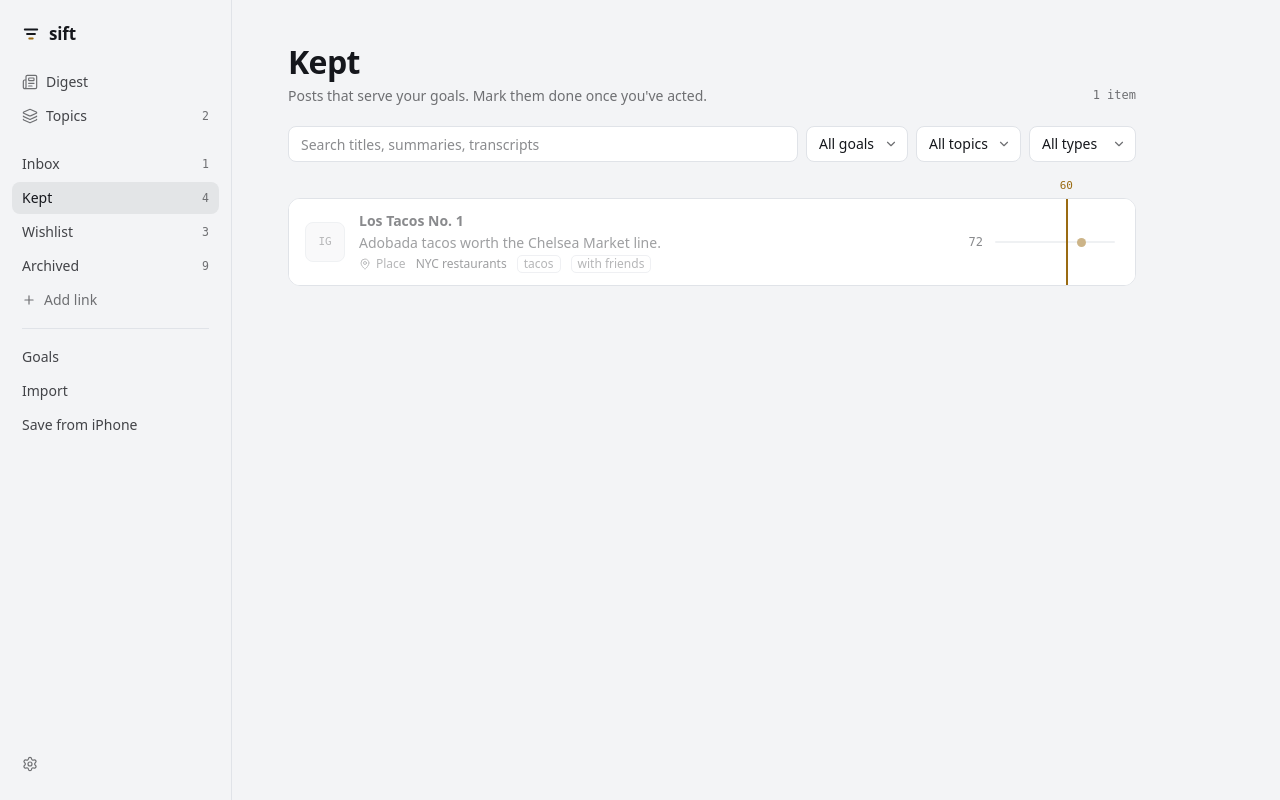
library search › keeps typing that lands while a search is loading
The image size is (1280, 800).
Type "taco" into the search field labelled "Search" at (543, 144), box [288,126,798,162]
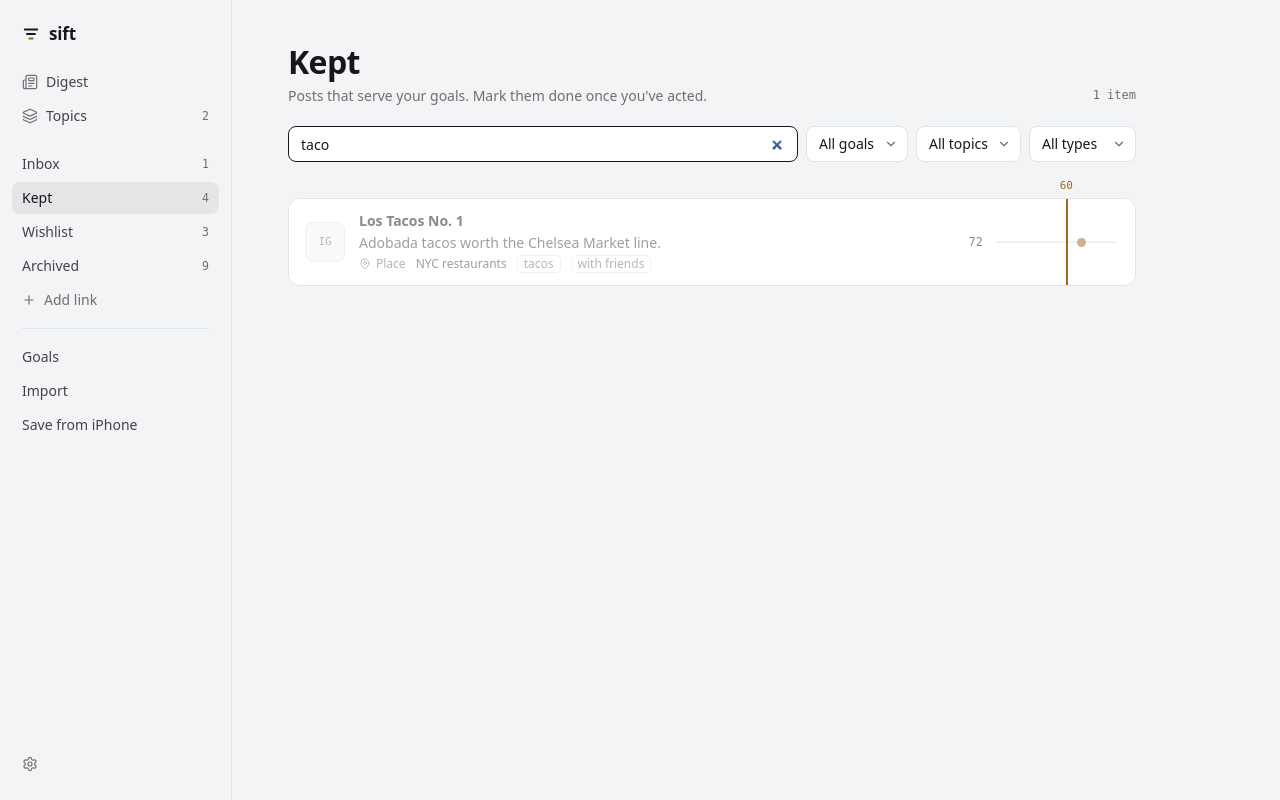
Type "s" into the search field named "Search" at (543, 144), box [288,126,798,162]
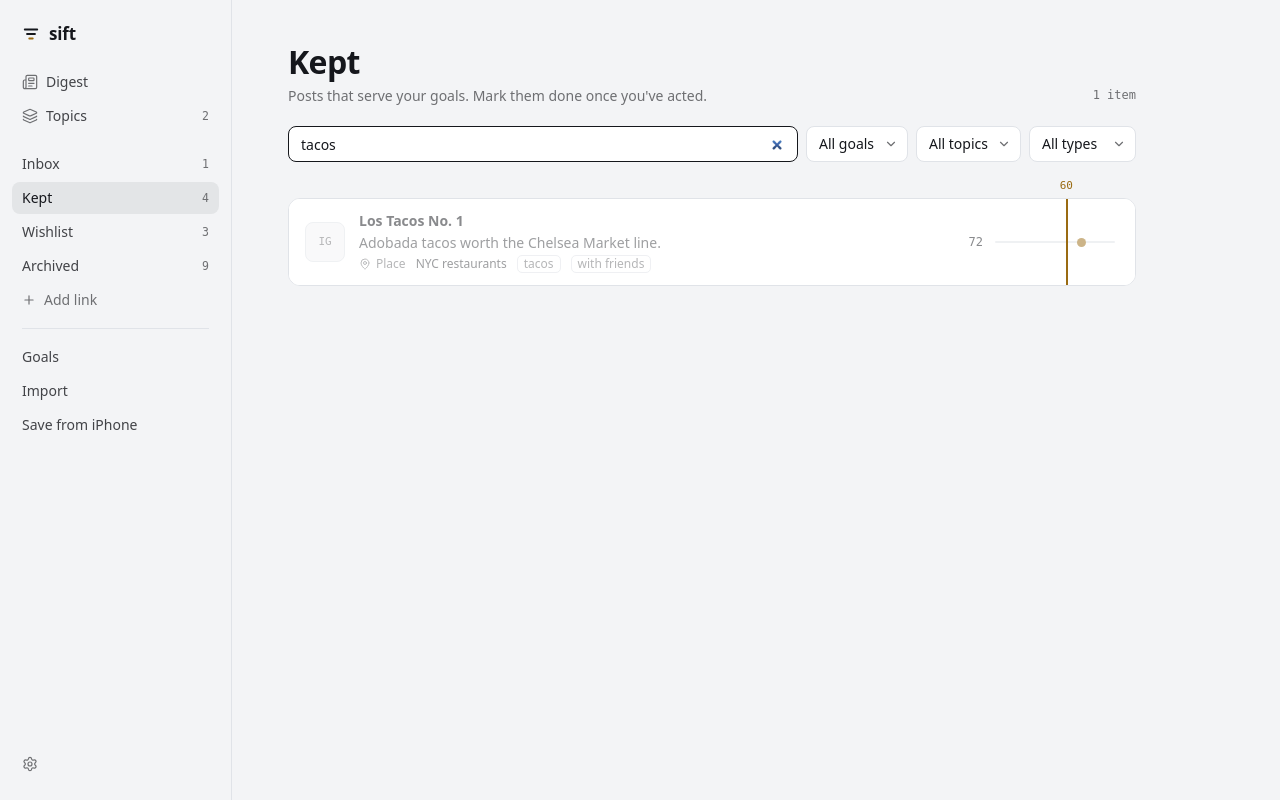
Result: the search field named "Search" holds "tacos" at [288,126,798,162]
